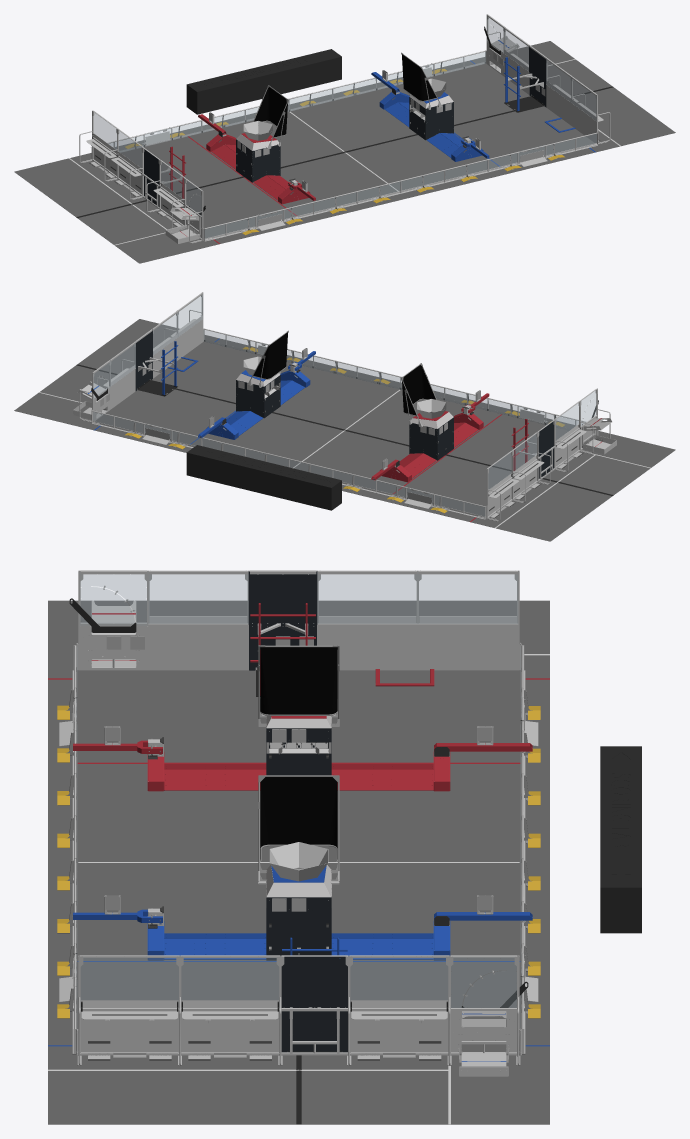
Rendered from rebuilt-field.glb.
3 views of the same model, one above another, from view 1: azimuth 30°, elevation 25°; view 2: azimuth 150°, elevation 25°; view 3: azimuth 270°, elevation 25° (orthographic). The views are drawn at different scales.
Parts seen in each view (by area): view 1: carpet-opaque, perimeter-540-opaque, perimeter-540-glass, arena-41-opaque, hub-528-opaque, hub-511-opaque, markings-opaque, tower-536-opaque, tower-493-opaque, hub-528-net, outpost-501-opaque, hub-511-net (+10 smaller); view 2: carpet-opaque, perimeter-540-opaque, perimeter-540-glass, arena-41-opaque, hub-528-opaque, hub-511-opaque, markings-opaque, tower-536-opaque, tower-493-opaque, hub-528-net, outpost-479-opaque, outpost-501-opaque (+9 smaller); view 3: carpet-opaque, perimeter-540-opaque, perimeter-540-glass, hub-511-opaque, arena-41-opaque, tower-536-opaque, tower-493-opaque, hub-511-net, hub-528-net, markings-opaque, hub-528-opaque, outpost-501-opaque (+11 smaller).
Boxes of the visible parts, x1,y1,x2,y2 form: carpet-opaque: (14,41,675,263); perimeter-540-opaque: (79,14,610,243); perimeter-540-glass: (94,29,596,238); arena-41-opaque: (186,49,341,114); hub-528-opaque: (236,85,288,182); hub-511-opaque: (401,52,453,140); markings-opaque: (69,40,620,245); tower-536-opaque: (504,45,546,112); tower-493-opaque: (142,146,185,208); hub-528-net: (254,87,287,137); outpost-501-opaque: (165,178,205,243); hub-511-net: (402,54,436,100); carpet-opaque: (14,319,675,541); perimeter-540-opaque: (79,292,610,521); perimeter-540-glass: (93,295,583,516); arena-41-opaque: (186,445,341,510); hub-528-opaque: (401,363,453,460); hub-511-opaque: (236,330,288,418); markings-opaque: (39,338,650,528); tower-536-opaque: (135,329,178,396); tower-493-opaque: (511,419,554,480); hub-528-net: (402,365,435,415); outpost-479-opaque: (73,360,110,421); outpost-501-opaque: (580,389,616,454); carpet-opaque: (48,600,549,1124); perimeter-540-opaque: (57,570,540,1065); perimeter-540-glass: (76,572,521,1027); hub-511-opaque: (258,775,339,960); arena-41-opaque: (600,746,641,933); tower-536-opaque: (281,937,347,1055); tower-493-opaque: (248,570,317,696); hub-511-net: (260,777,337,859); hub-528-net: (260,647,337,714); markings-opaque: (48,613,549,1124); hub-528-opaque: (258,645,339,775); outpost-501-opaque: (69,570,148,670).
Bounding box in the file's own units: 22.56 × 3.06 × 10.82.
